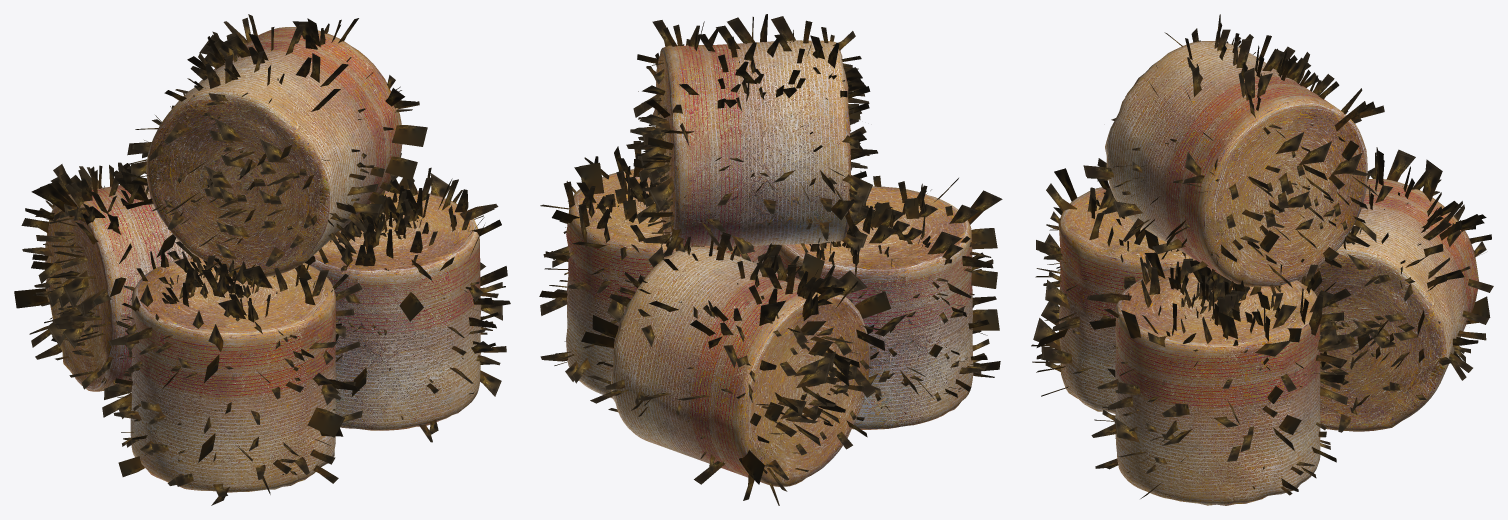
The model's file is vv_heno_paca.glb.
The picture shows the model from 3 angles, left to right: view 1: azimuth 30°, elevation 25°; view 2: azimuth 150°, elevation 25°; view 3: azimuth 270°, elevation 25°; orthographic projection.
Visible parts, largest first — view 1: Plane.559_0; view 2: Plane.559_0; view 3: Plane.559_0.
Boxes of the visible parts, left/top/right/bottom form: Plane.559_0: left=14, top=14, right=510, bottom=505; Plane.559_0: left=539, top=14, right=1002, bottom=505; Plane.559_0: left=1031, top=14, right=1493, bottom=505.
Size of the model in its own units: 3.26 by 2.93 by 3.25.
2 materials, 2 textured.
